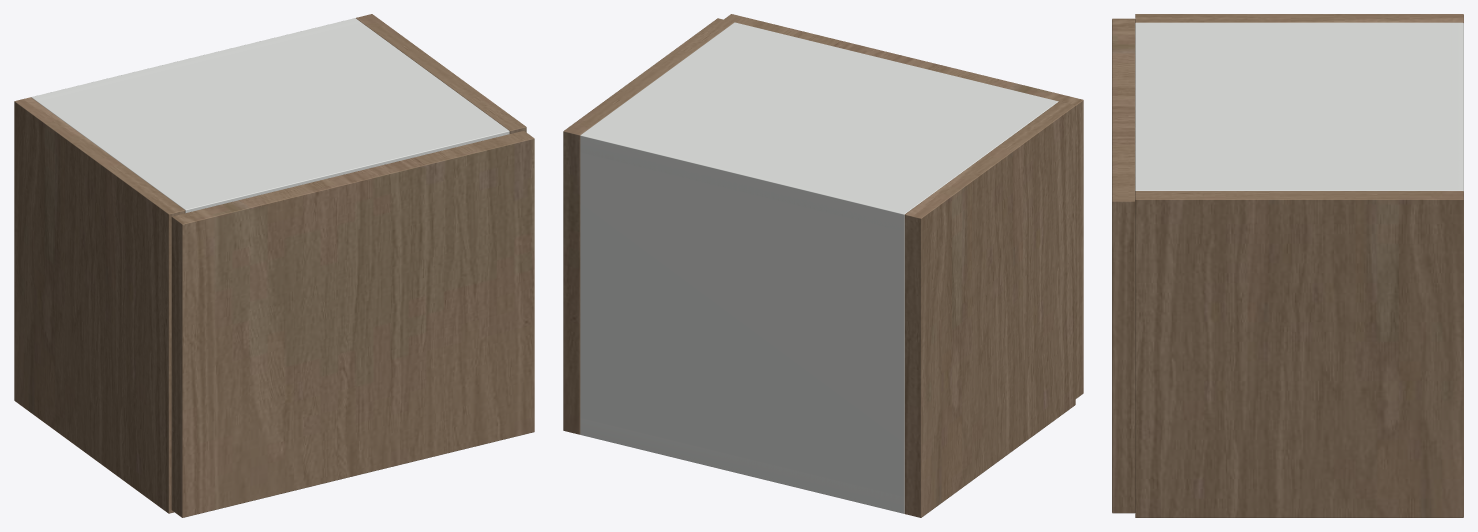
File: oppein-pb-mnw-w1512.glb
3 views of the same model, side by side, from view 1: azimuth 30°, elevation 25°; view 2: azimuth 150°, elevation 25°; view 3: azimuth 270°, elevation 25° (orthographic). The views are drawn at different scales.
Parts seen in each view (by area): view 1: Door, Cabinet side, Cabinet top, Cabinet side.001, Cabinet back; view 2: Cabinet back, Cabinet side, Cabinet top, Cabinet side.001, Door, Cabinet bottom; view 3: Cabinet side.001, Cabinet top, Door, Cabinet side, Cabinet back.
Boxes of the visible parts, x1,y1,x2,y2 form: Door: [171, 130, 534, 517]; Cabinet side: [14, 97, 185, 513]; Cabinet top: [37, 22, 509, 213]; Cabinet side.001: [356, 14, 526, 133]; Cabinet back: [31, 18, 360, 101]; Cabinet back: [580, 131, 909, 513]; Cabinet side: [904, 101, 1075, 517]; Cabinet top: [580, 22, 1058, 231]; Cabinet side.001: [563, 18, 733, 434]; Door: [724, 14, 1083, 398]; Cabinet bottom: [580, 418, 904, 513]; Cabinet side.001: [1135, 191, 1463, 517]; Cabinet top: [1135, 22, 1463, 190]; Door: [1112, 18, 1135, 513]; Cabinet side: [1135, 14, 1463, 22]; Cabinet back: [1450, 22, 1463, 190].
Bounding box in the file's own units: 0.381 × 0.3048 × 0.3048.
2 materials, 1 textured.
